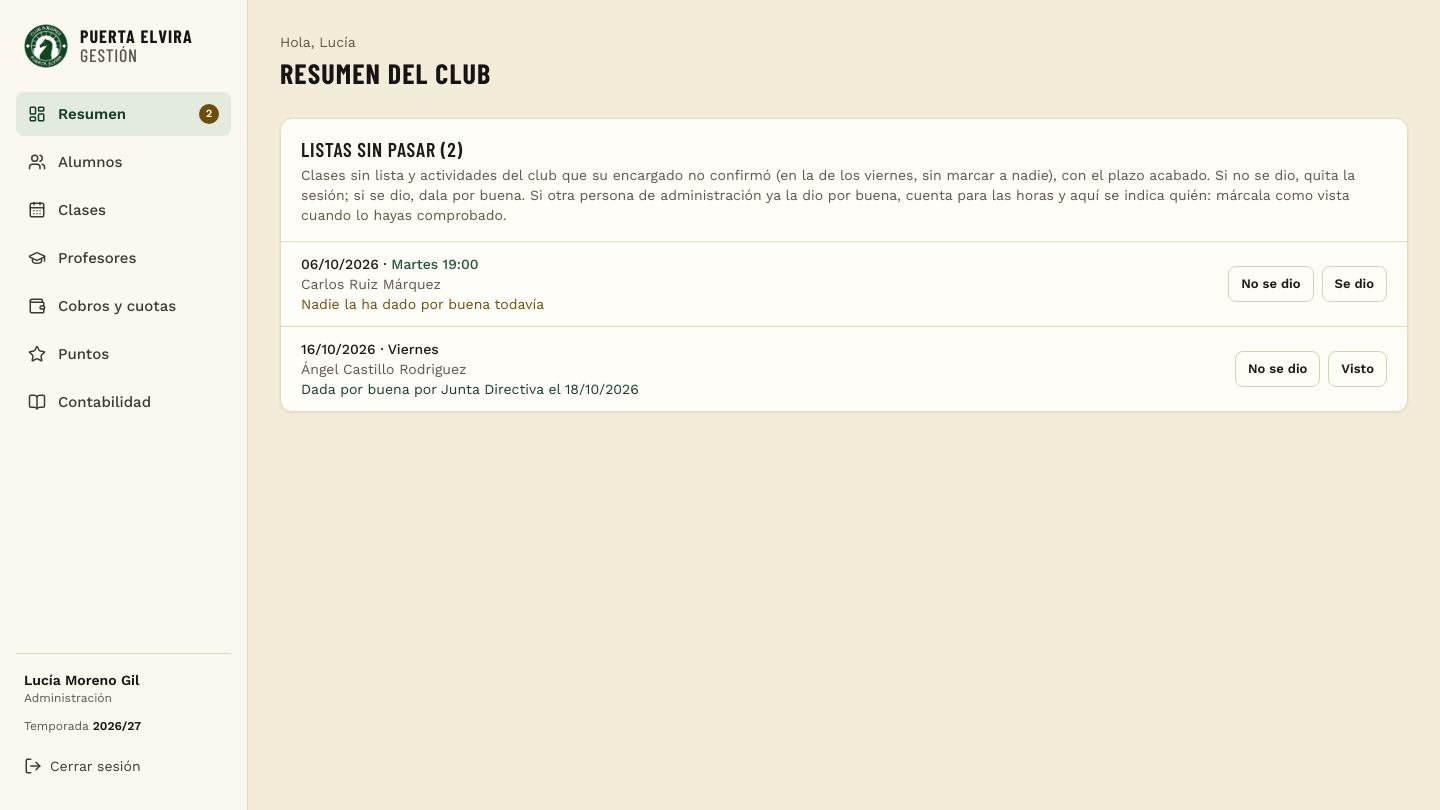
Test case: Listas sin pasar › counts them in the menu and lets administration remove a session or review a class kept by someone else
Expected: the heading "Listas sin pasar (2)" is shown, [301,137,463,161]
Expected: the text named "2 listas sin pasar" is shown, [199,104,219,124]
Click the button with aria-label "Quitar la sesión del 06/10/2026 de Martes 19:00" at (1271, 284), box [1228,266,1314,302]
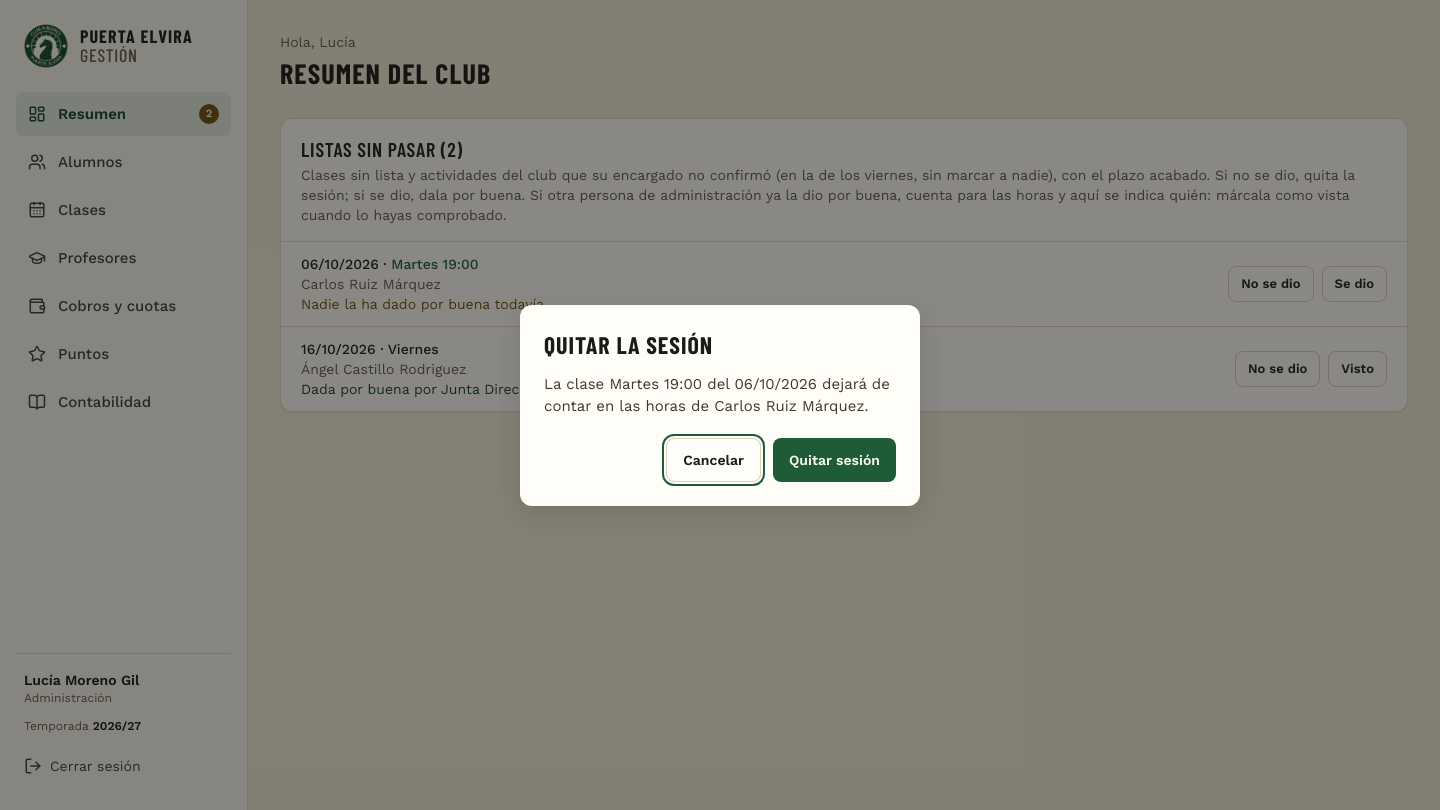
Click the button "Quitar sesión" at (834, 460), box [773,438,896,482]
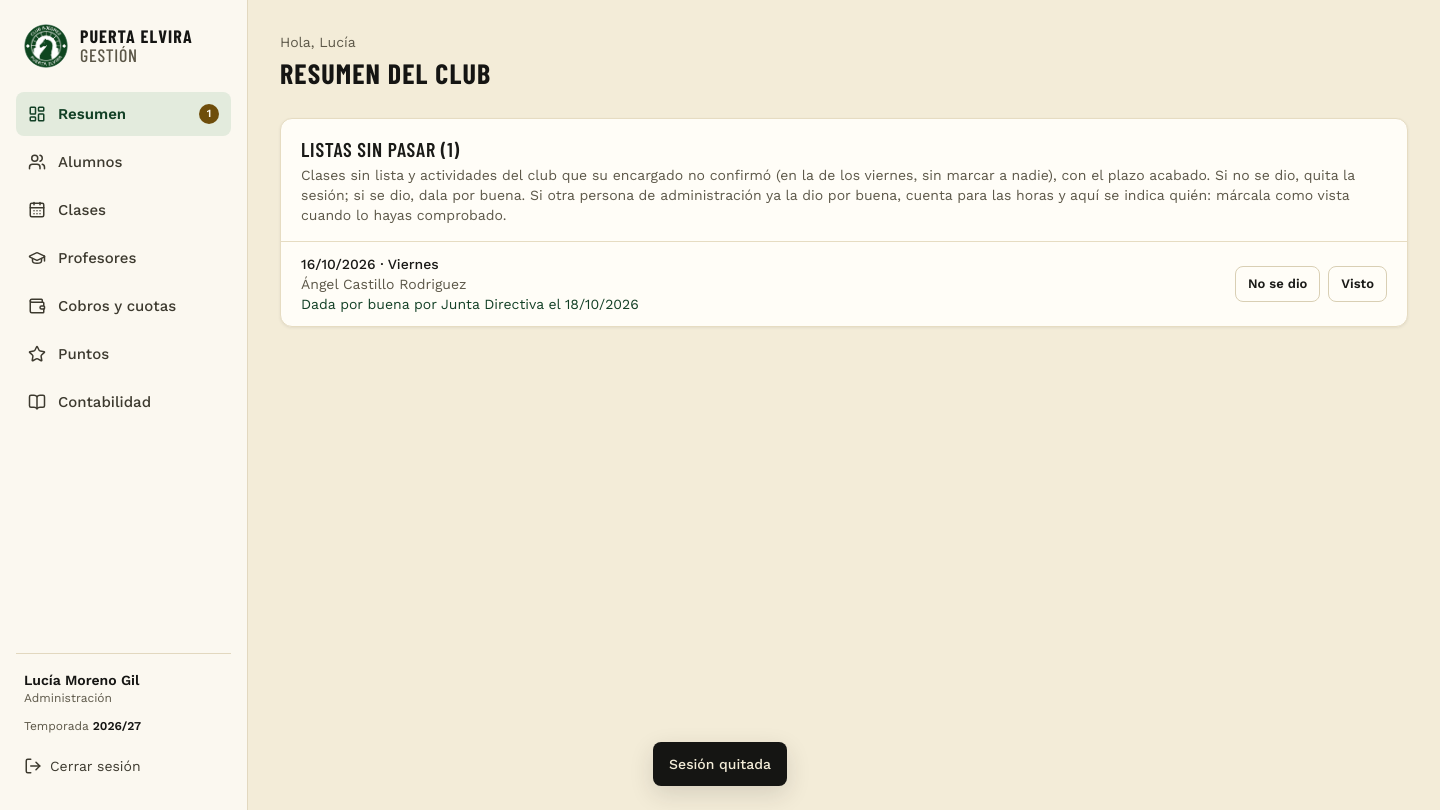
Now the text named "1 lista sin pasar" is shown, box [199,104,219,124]
Click the button with aria-label "Marcar como vista la clase del 16/10/2026 de Viernes" at (1358, 284), box [1328,266,1387,302]
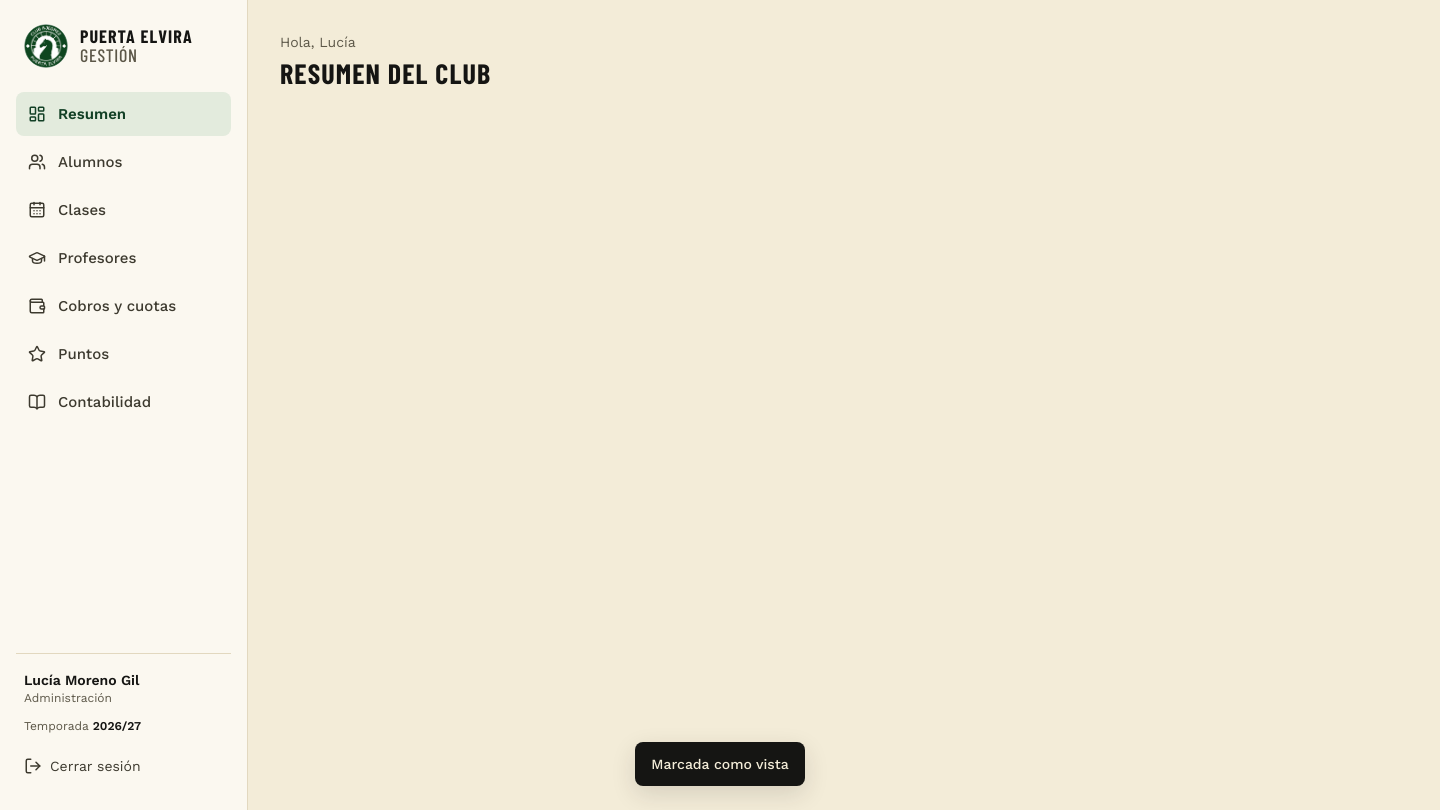
Now the heading "Listas sin pasar" is gone
Now the heading labelled "sin pasar" is gone
